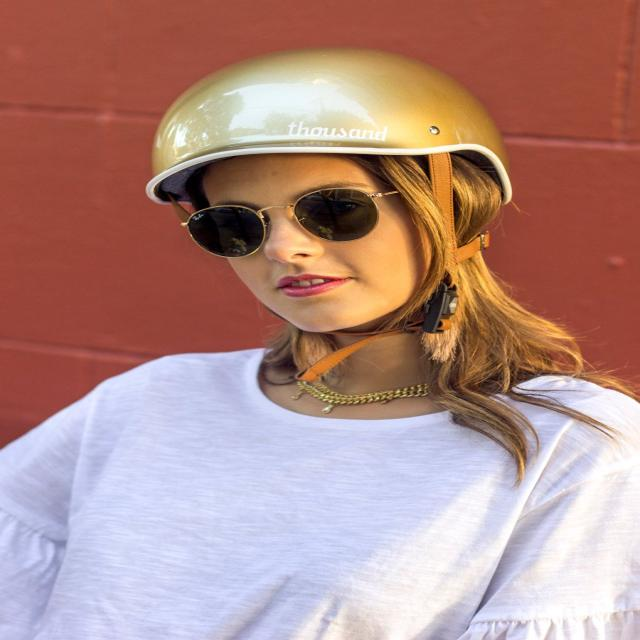Helmet: (145, 44, 513, 335)
